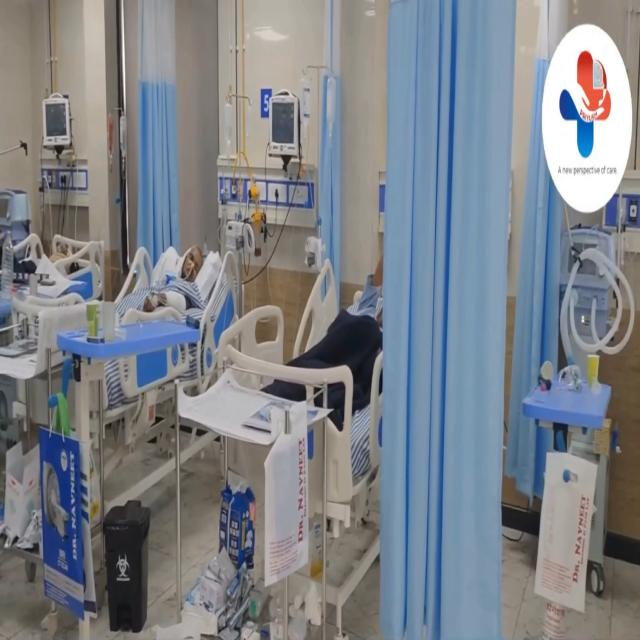Movement-Yes: (345, 236, 383, 349)
